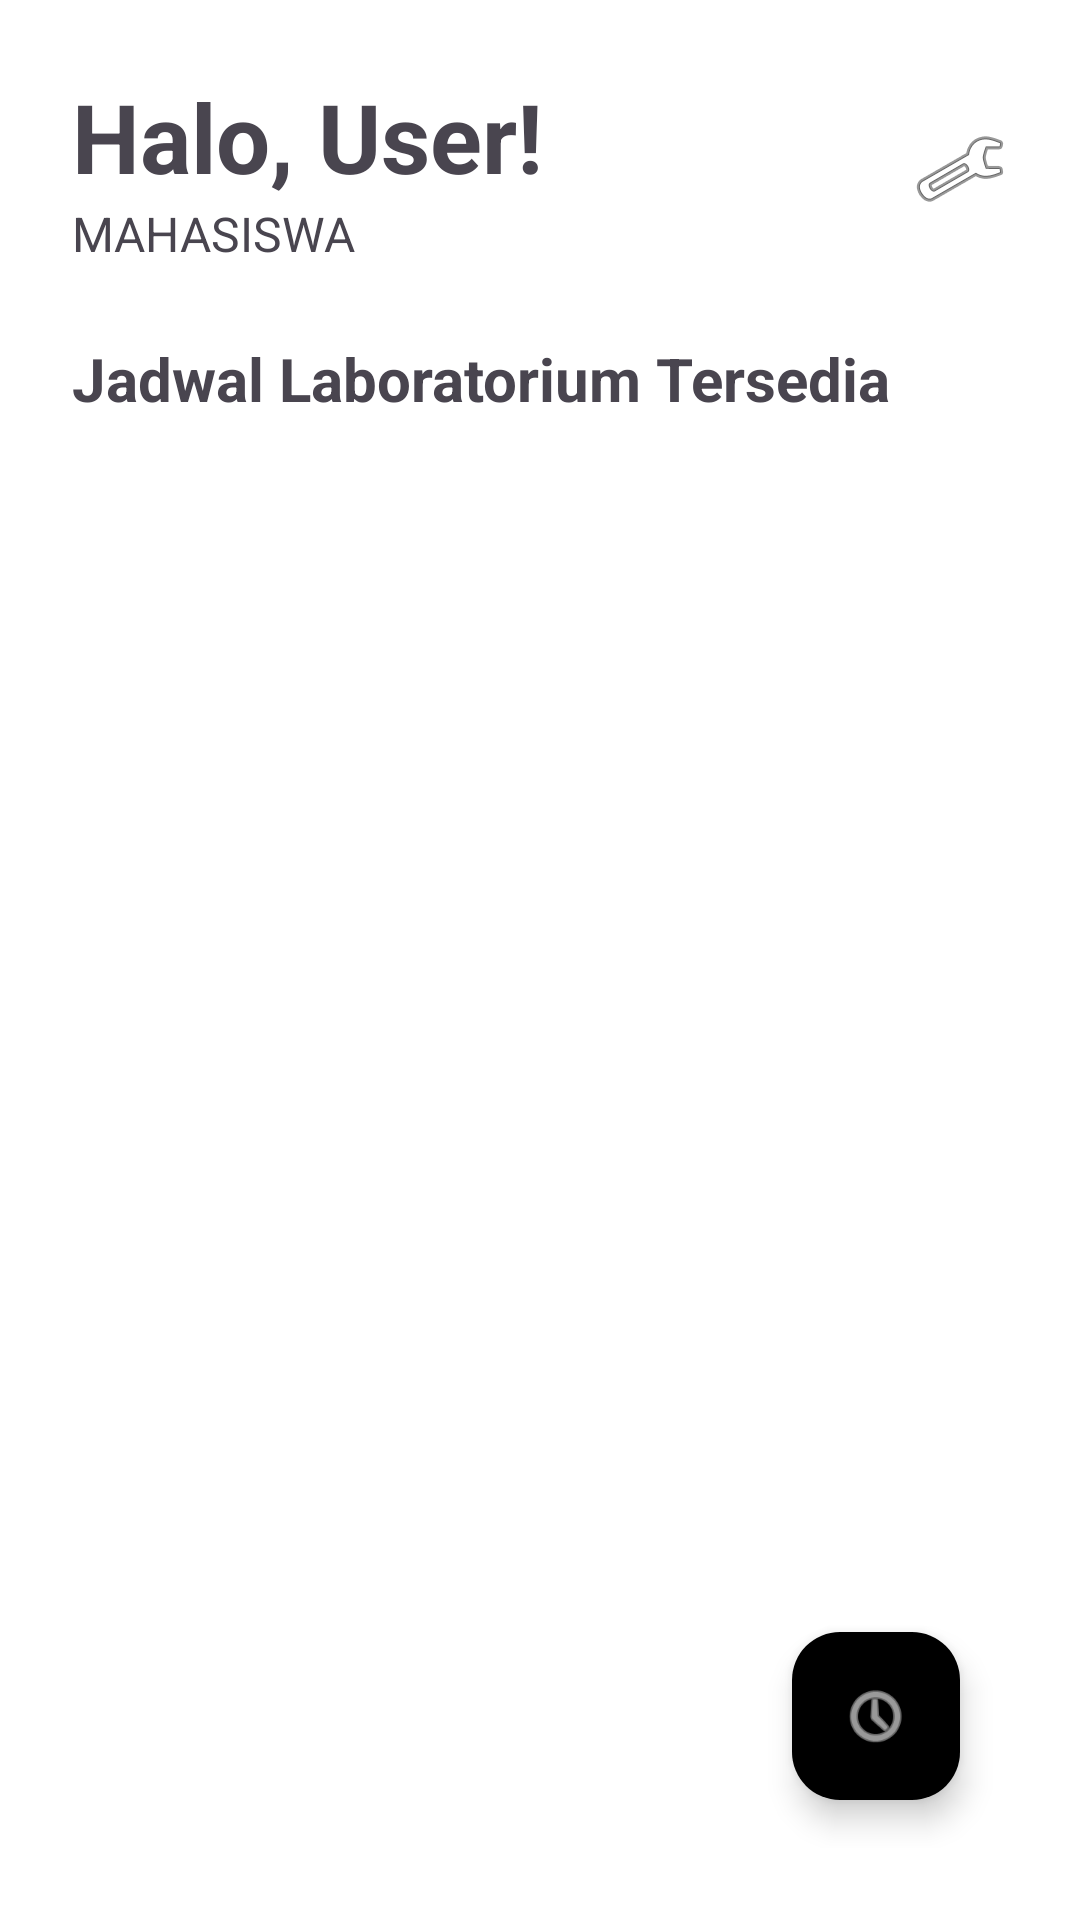

Screen size 1080px×1920px. Icon name, then its center in pixels as (x=x, y=y):
preferences: (x=960, y=169)
recent history: (x=876, y=1716)
